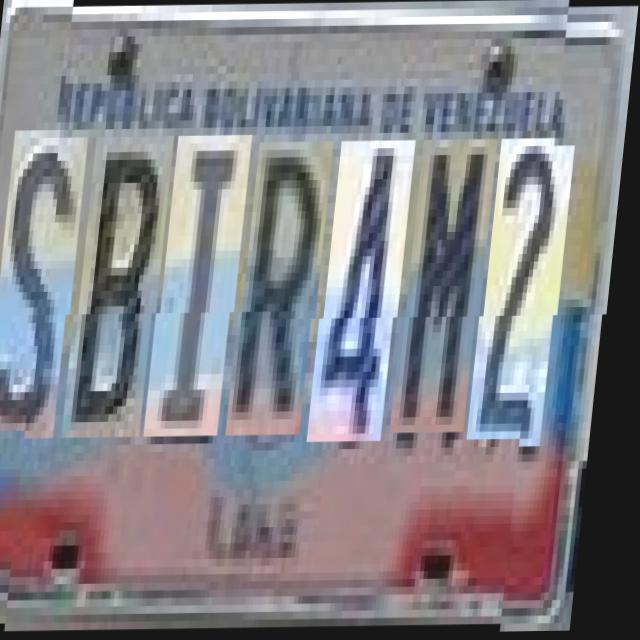2: (480, 140, 580, 441)
4: (320, 142, 420, 443)
B: (74, 137, 178, 438)
I: (157, 136, 256, 437)
M: (403, 140, 501, 434)
R: (239, 142, 337, 436)
S: (0, 138, 91, 438)
